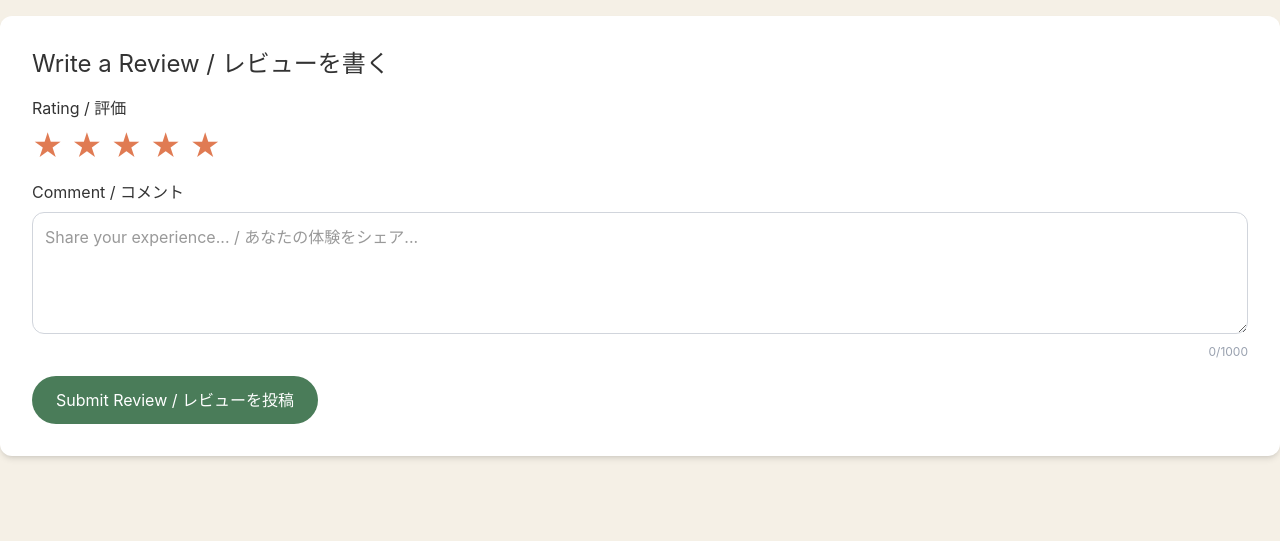
Test: ReviewForm › 送信に失敗したらメッセージを表示する
This screenshot has width=1280, height=541.
Type "とても美味しかったです。また買います。" into the text box.
click(640, 273); type("とても美味しかったです。また買います。")  # box [32,212,1248,334]
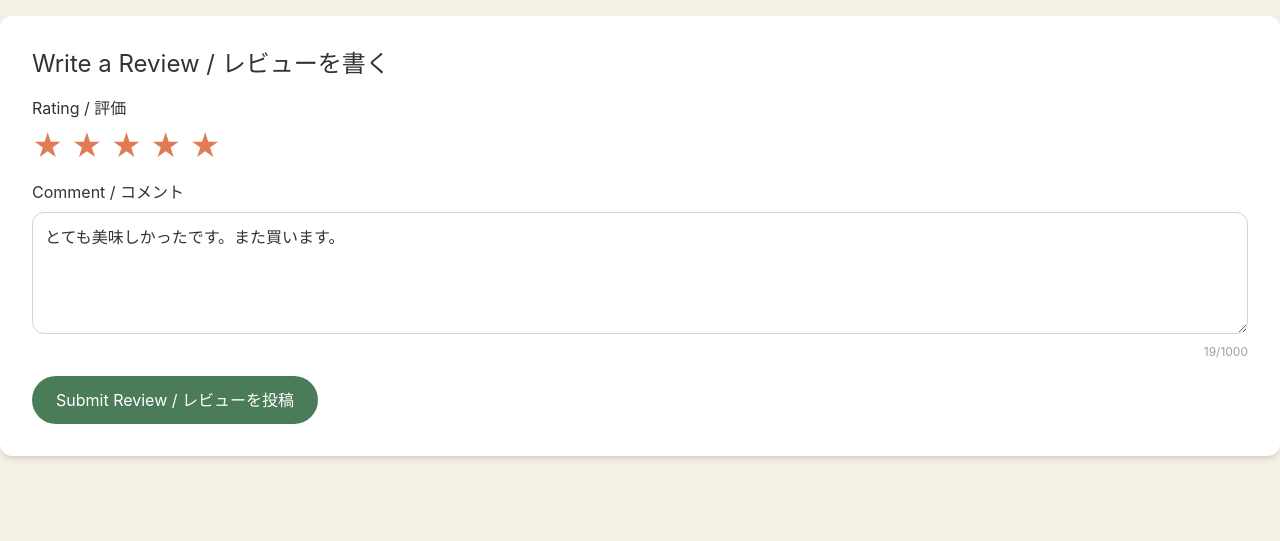
Click the button "Submit Review / レビューを投稿".
click(175, 400)  # box [32,376,318,424]
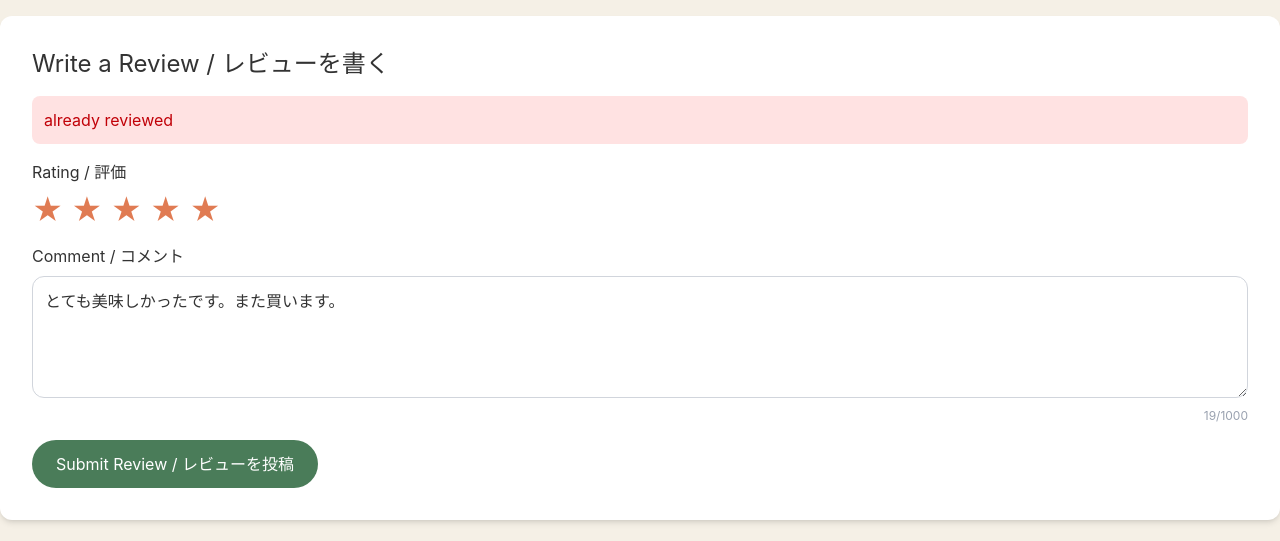
Check: the text "already reviewed" is shown, box [32,96,1248,144]
